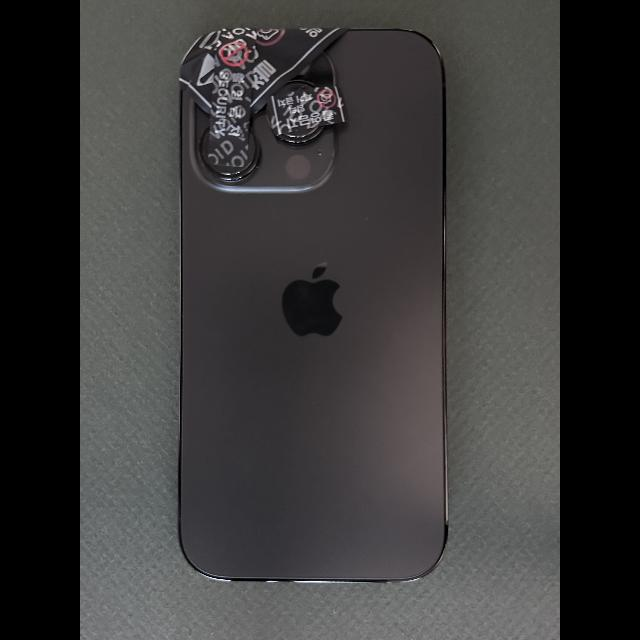lens: (200, 126, 260, 180), (279, 127, 323, 142)
phone: (178, 28, 450, 584)
sticker: (250, 28, 350, 116), (208, 28, 258, 167), (267, 86, 347, 136)
